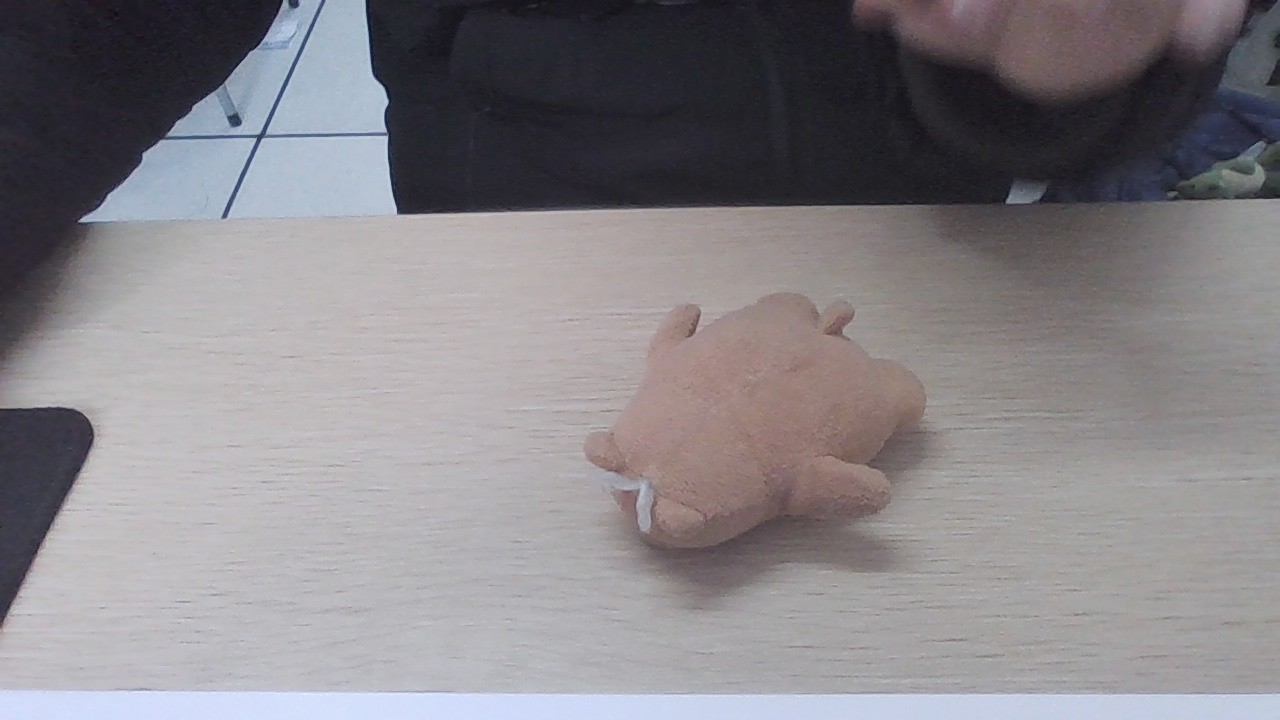KHS-doll: (600, 306, 904, 528)
